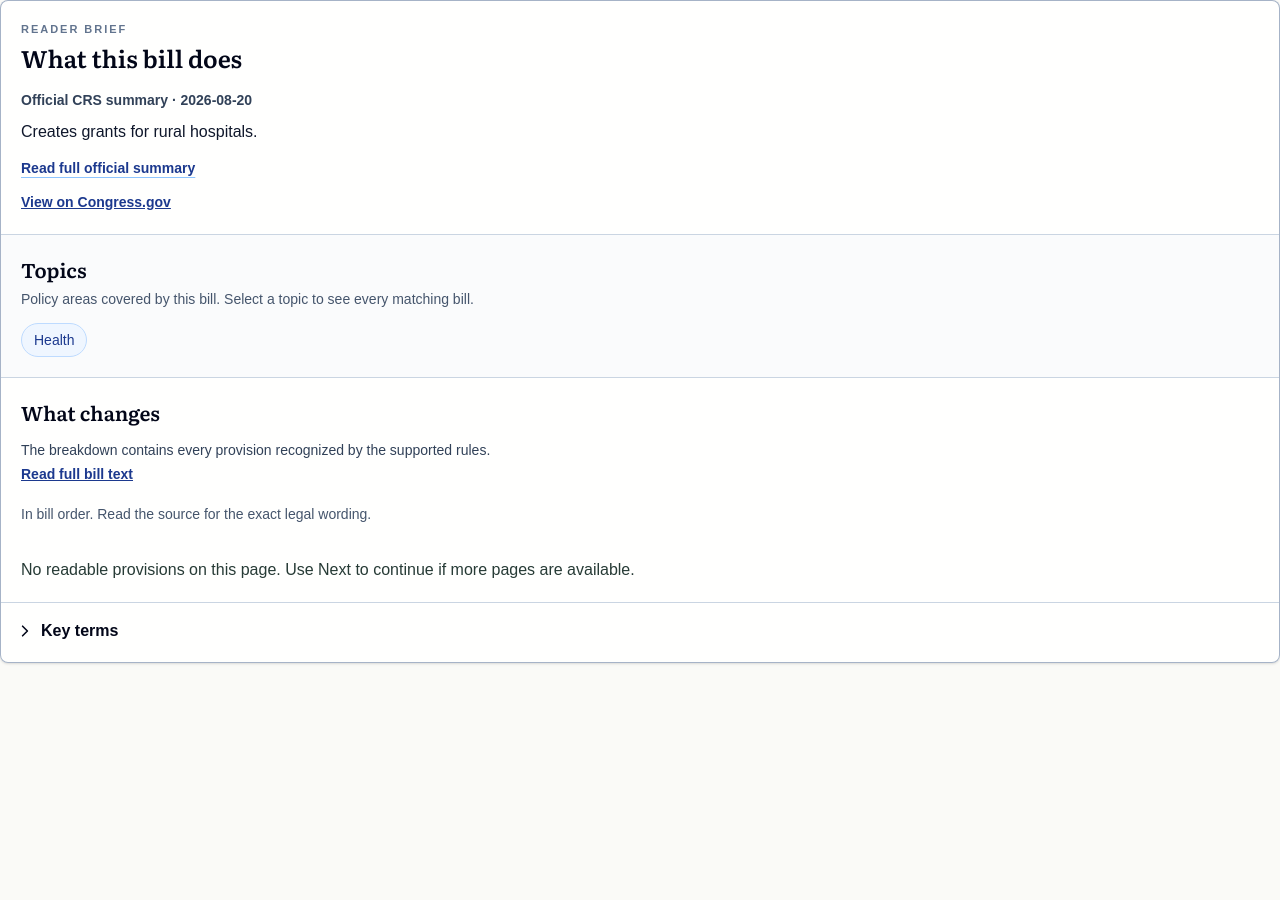
Test case: BillBrief › does not publish a partial glossary count when a later page fails
The image size is (1280, 900).
Click the button "Key terms": click(68, 630) [17,618,118,642]
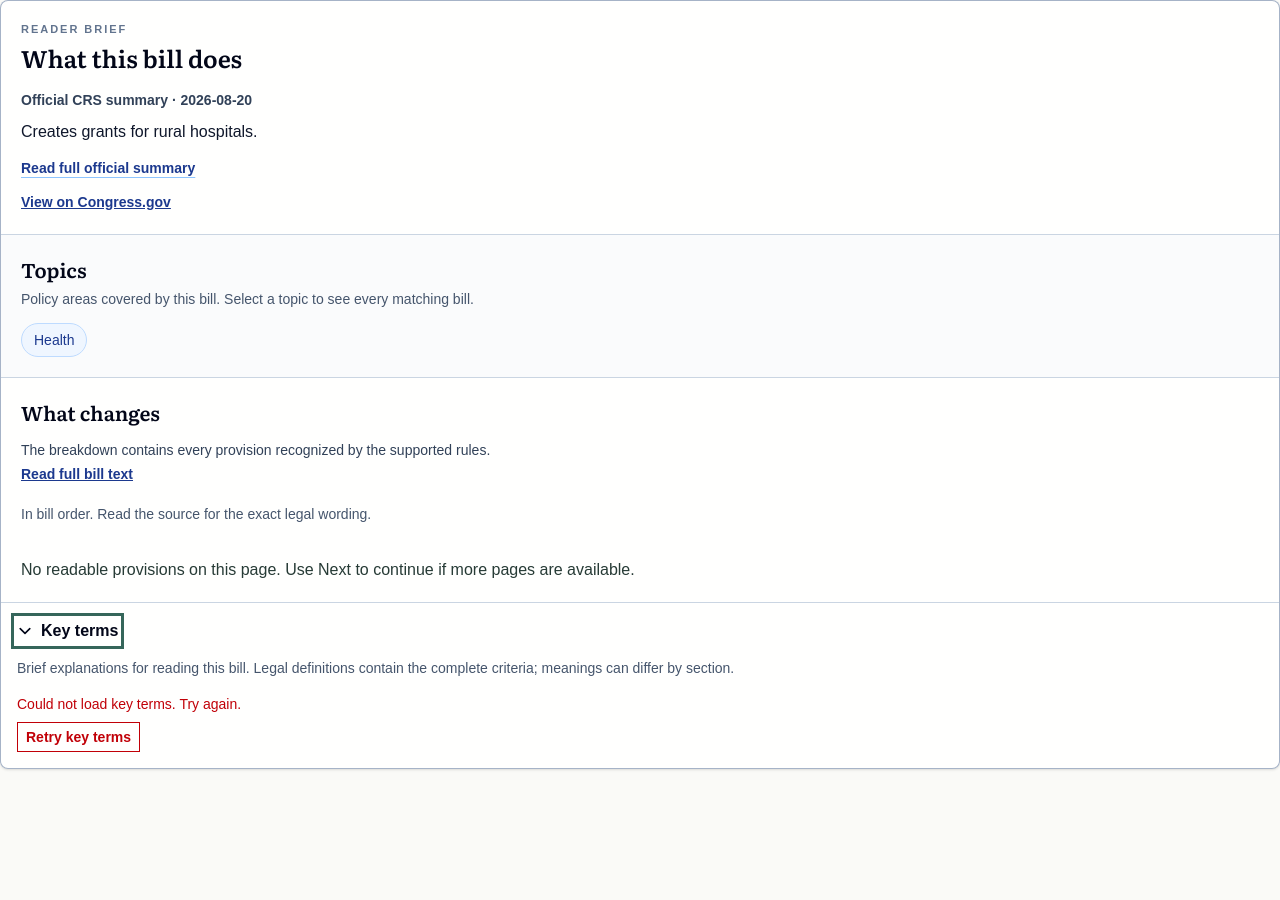
Now the message shows "Could not load key terms", box [17,696,241,712]
Click the button "Retry key terms": click(79, 736) [17,722,140,752]
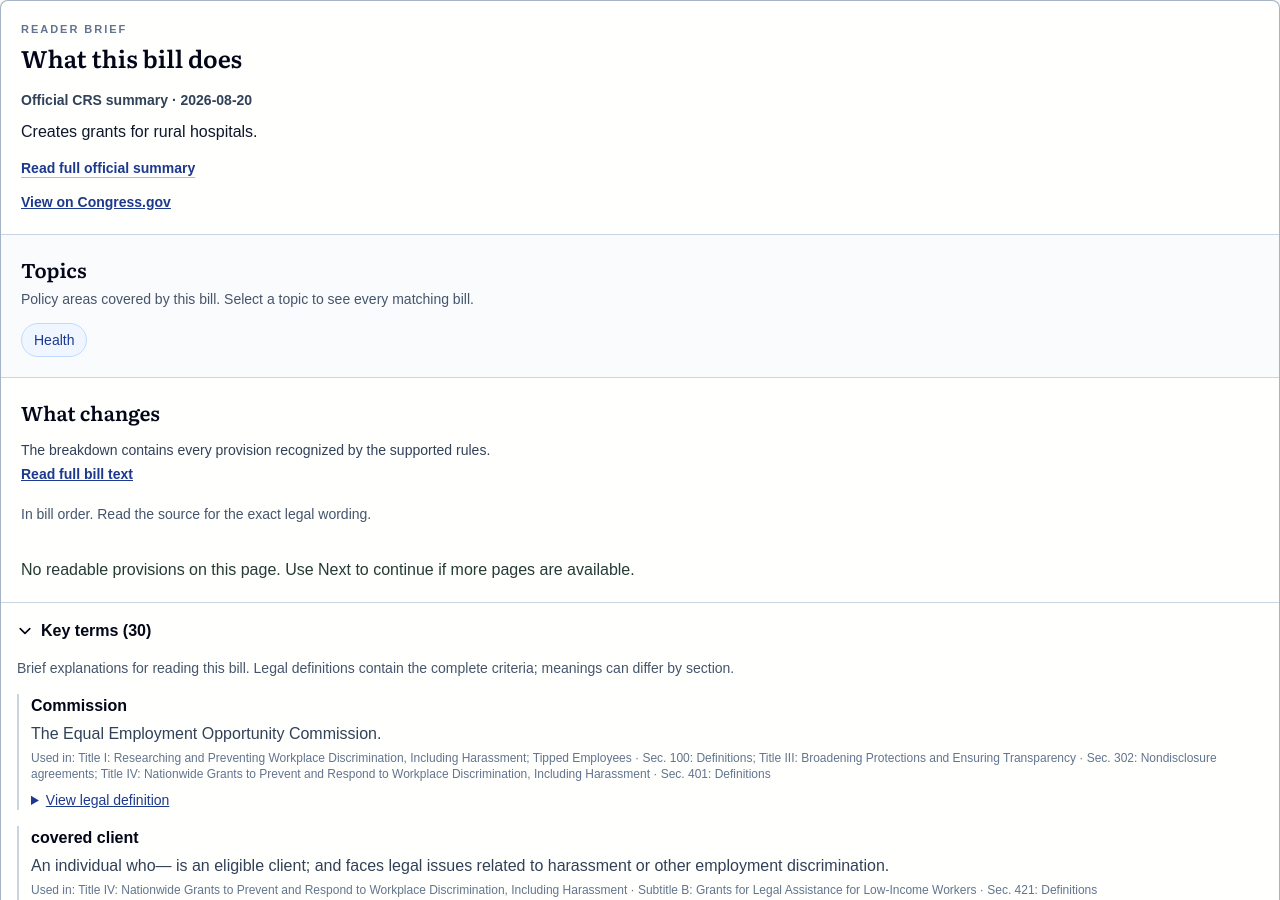
Now the button "Key terms (30)" is shown, box [17,618,151,642]
